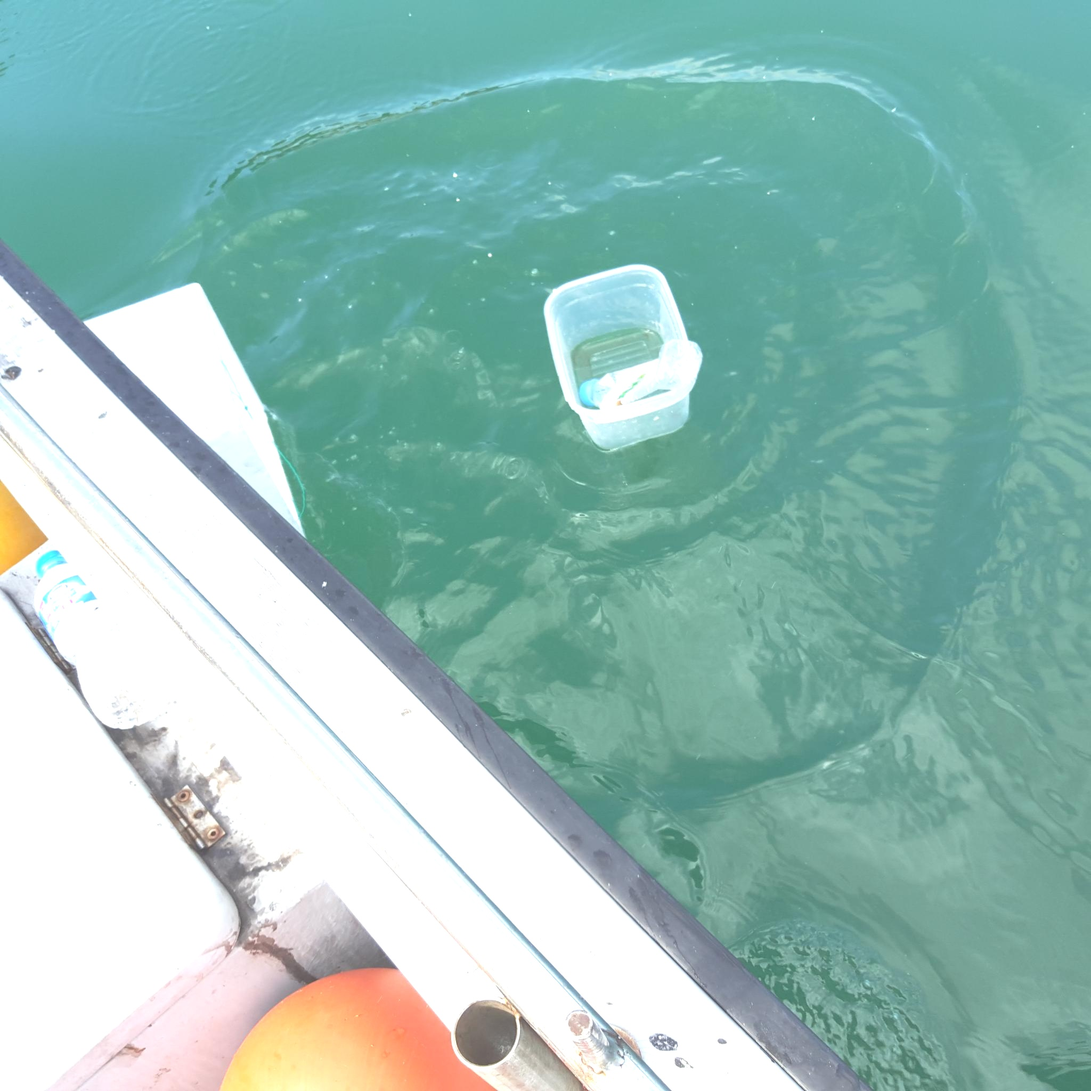sampah_terapung: (82, 281, 310, 541), (579, 340, 703, 409)
